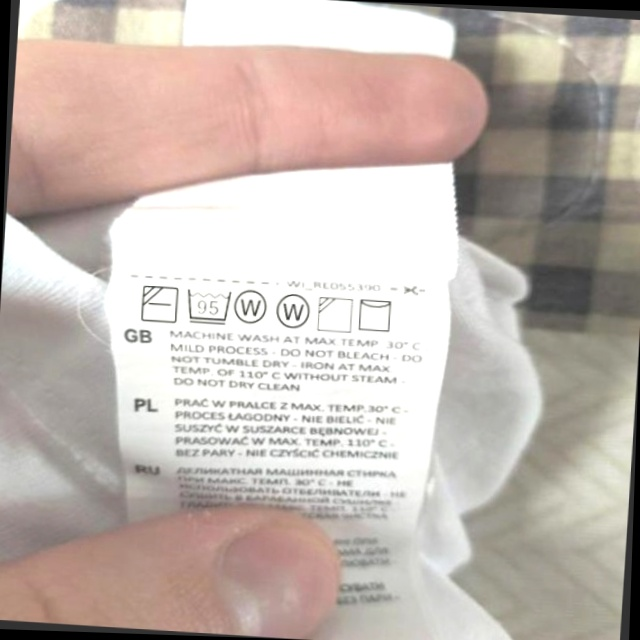95C: (183, 285, 234, 326)
dry_flat_in_shade: (138, 281, 180, 326)
line_dry: (355, 294, 397, 335)
shade_dry: (315, 294, 356, 335)
wet_clean: (233, 284, 271, 327), (274, 291, 313, 332)
